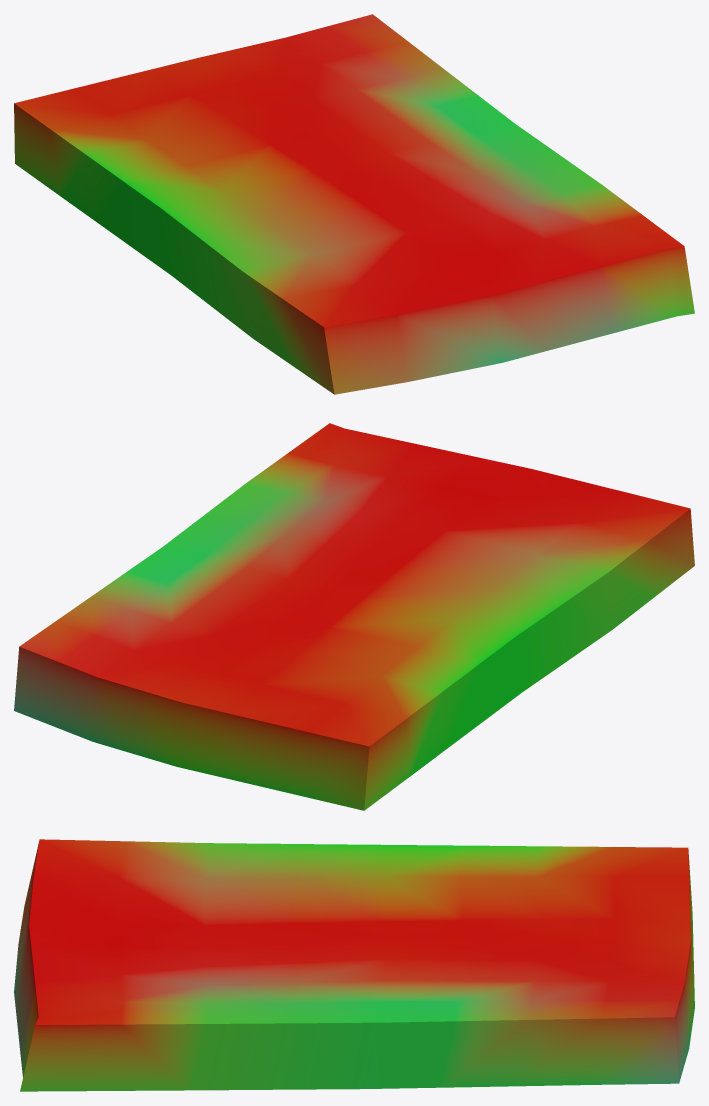
The model's file is bridge-to-boss.fbx.
3 views of the same model, one above another, from view 1: azimuth 30°, elevation 25°; view 2: azimuth 150°, elevation 25°; view 3: azimuth 270°, elevation 25° (orthographic). The views are drawn at different scales.
Visible parts, largest first — view 1: BridgeToBoss; view 2: BridgeToBoss; view 3: BridgeToBoss.
Boxes of the visible parts, x1,y1,x2,y2 form: BridgeToBoss: [14, 14, 694, 394]; BridgeToBoss: [14, 423, 694, 810]; BridgeToBoss: [14, 839, 694, 1091].
Bounding box in the file's own units: 245 × 46.2 × 387.
